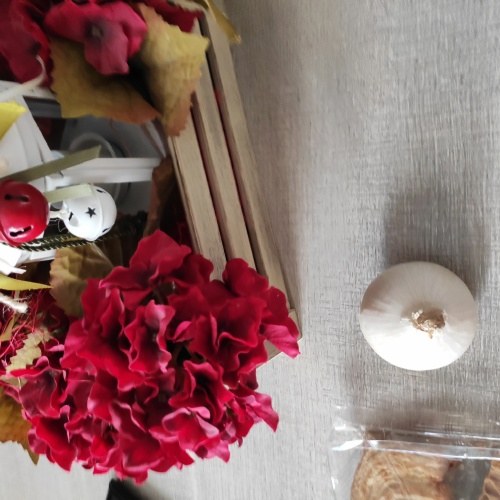cipolla: (354, 259, 490, 379)
